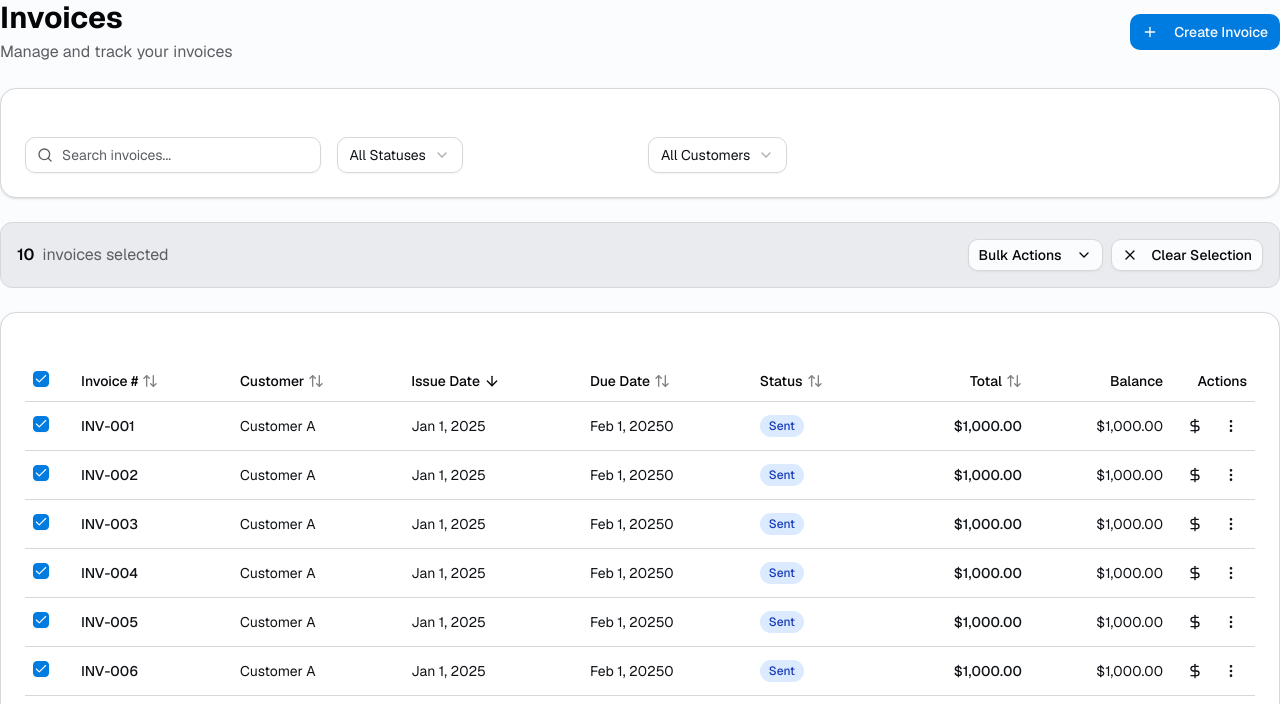
Test: Bulk PDF Export › Confirmation Modal › should show "and X more..." for more than 5 invoices
The width and height of the screenshot is (1280, 704).
Click the button "Bulk Actions" at (1035, 255), box [968,239,1102,271]
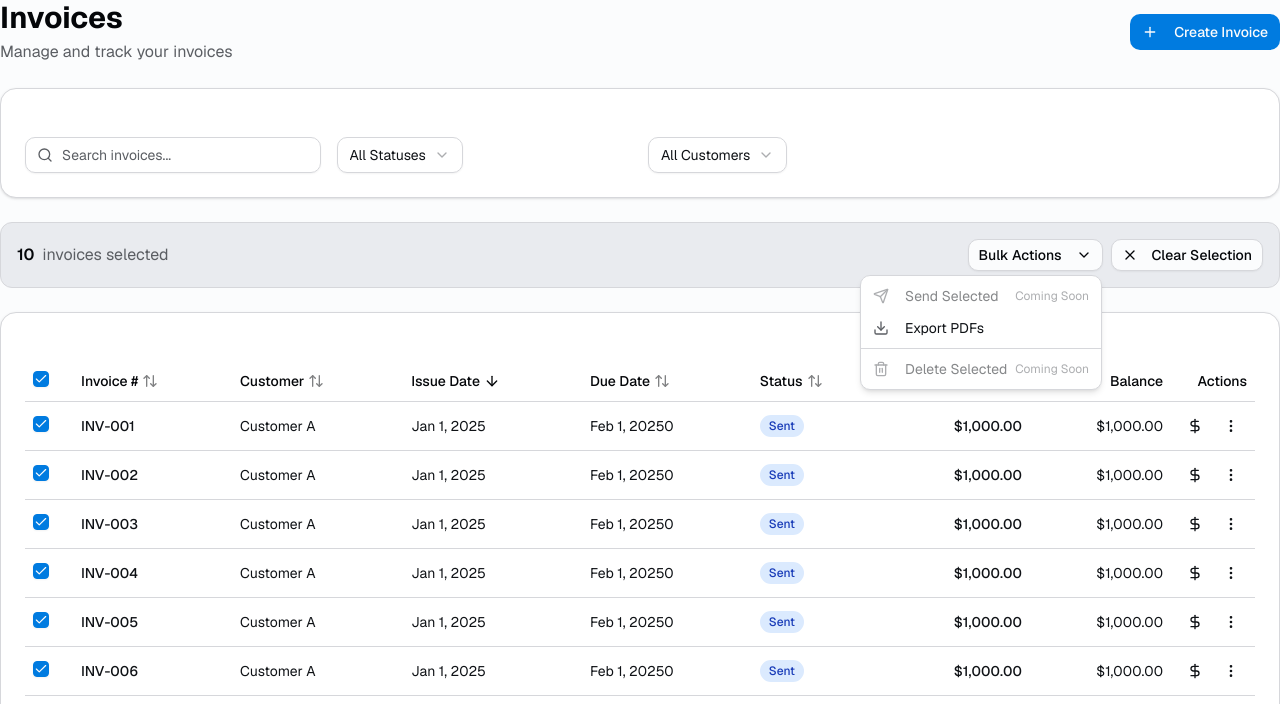
Click the menu item "Export PDFs" at (929, 328), box [873,319,984,337]
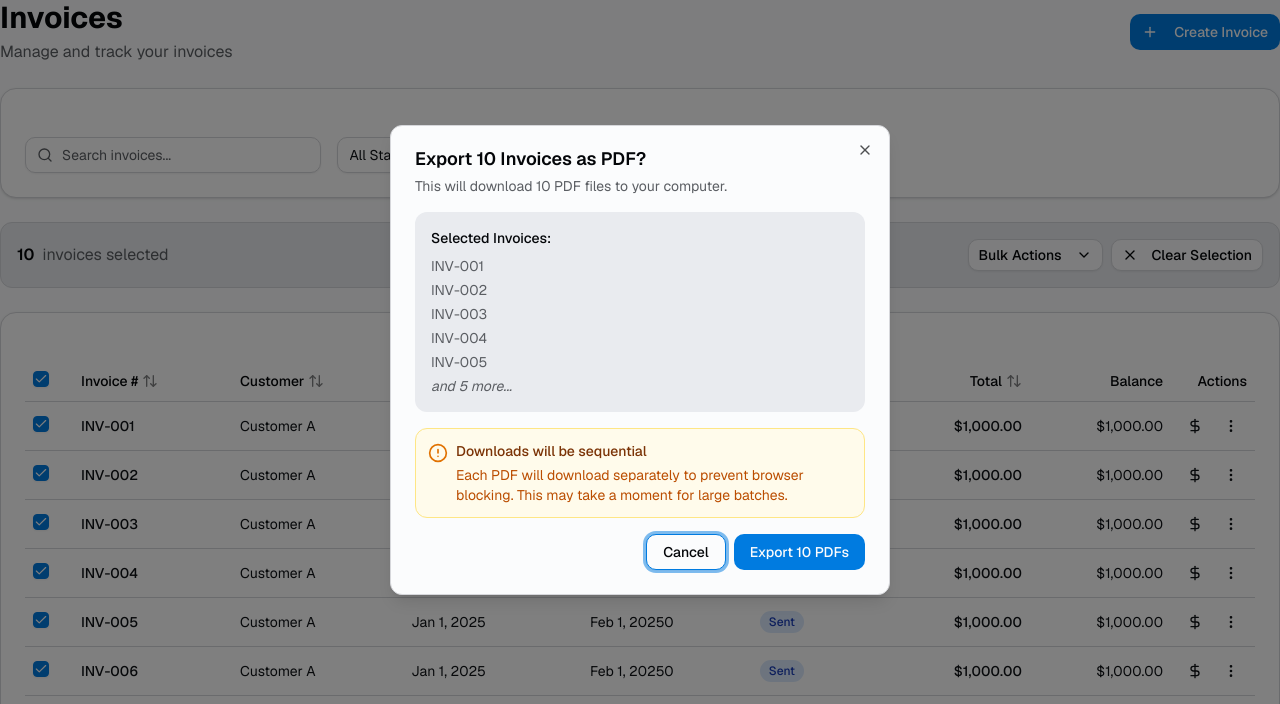
Expected: the list item "and 5 more..." is shown, [431,377,512,395]
